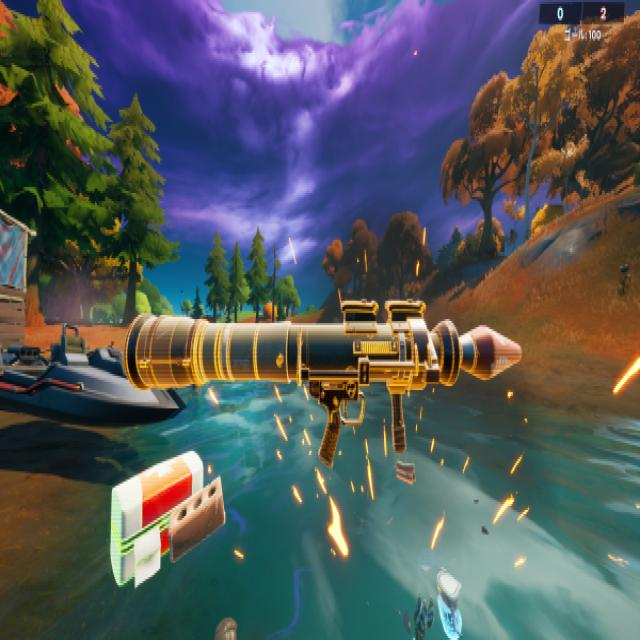bazooka: (104, 264, 539, 488)
